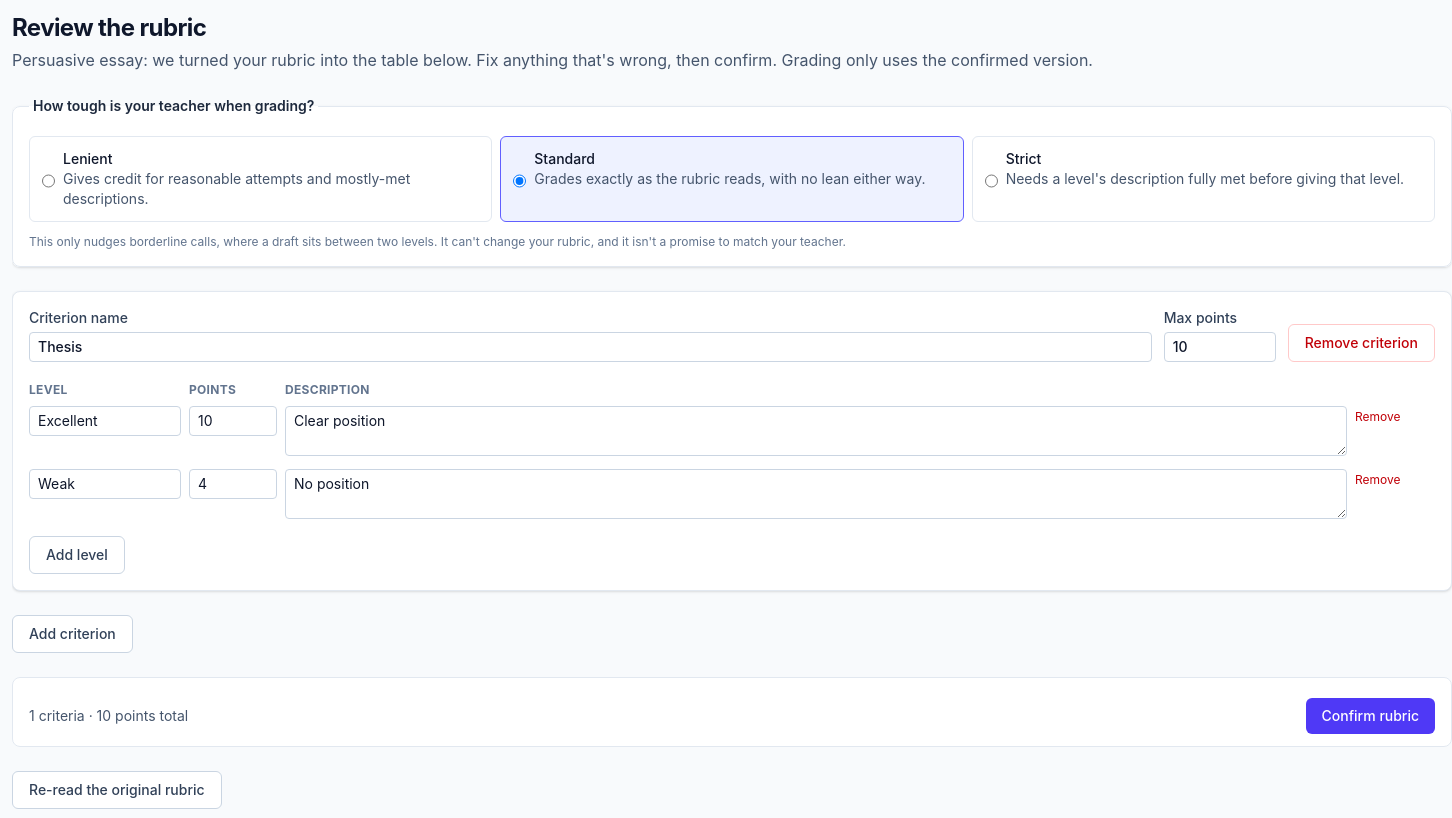
choosing the teacher strictness on the rubric review page › shows the error and does not confirm if saving the setting fails
Click the radio button labelled "Lenient" at (48, 181), box [42,153,55,209]
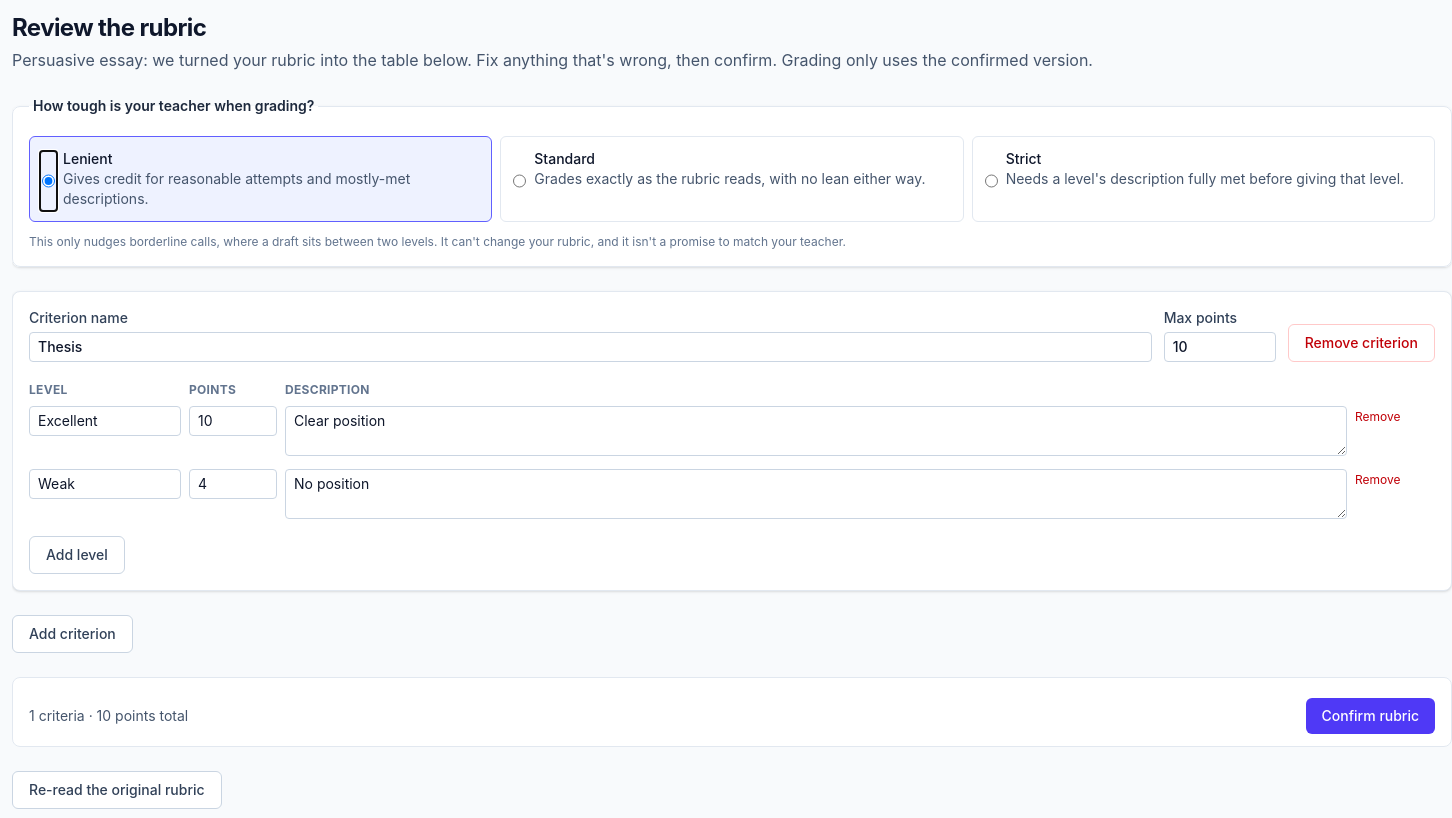
Click the button "Confirm rubric" at (1370, 716), box [1306,698,1435,734]
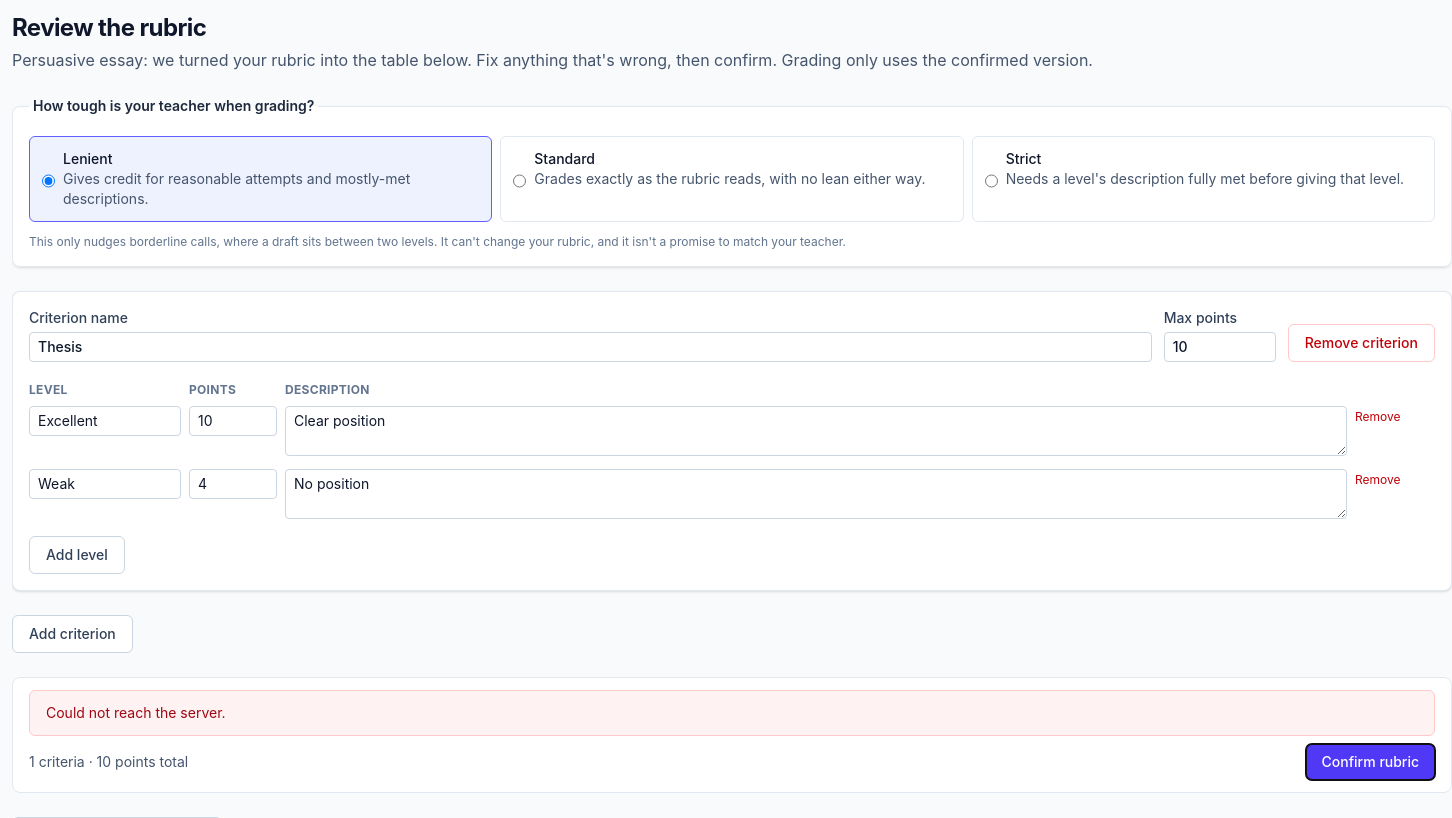
Check: the text "Could not reach the server." is shown, box [29,690,1435,736]
